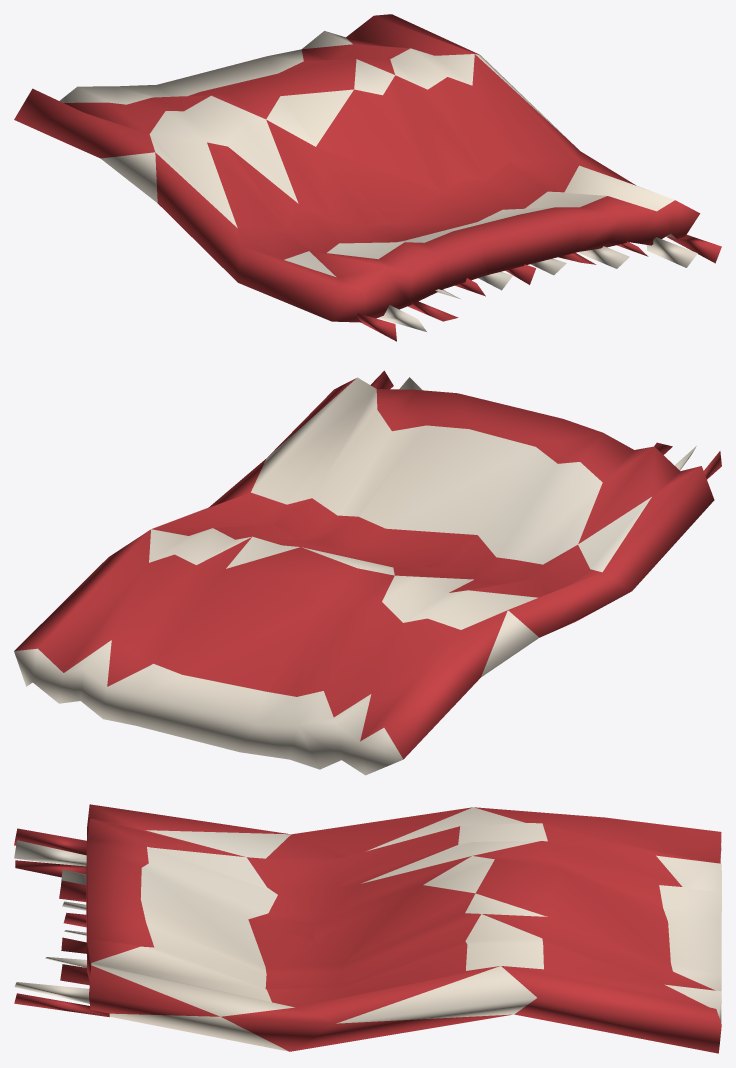
Rendered from frost_scarf_drape_lod2.glb.
The picture shows the model from 3 angles, top to bottom: view 1: azimuth 30°, elevation 25°; view 2: azimuth 150°, elevation 25°; view 3: azimuth 270°, elevation 25°; orthographic projection. The views are drawn at different scales.
Parts seen in each view (by area): view 1: frost_scarf_drape.001; view 2: frost_scarf_drape.001; view 3: frost_scarf_drape.001.
Boxes of the visible parts, <box> form: frost_scarf_drape.001: <box>14,14,721,341</box>; frost_scarf_drape.001: <box>14,370,721,775</box>; frost_scarf_drape.001: <box>14,804,721,1053</box>.
Size of the model in its own units: 3.96 by 0.9971 by 6.29.
